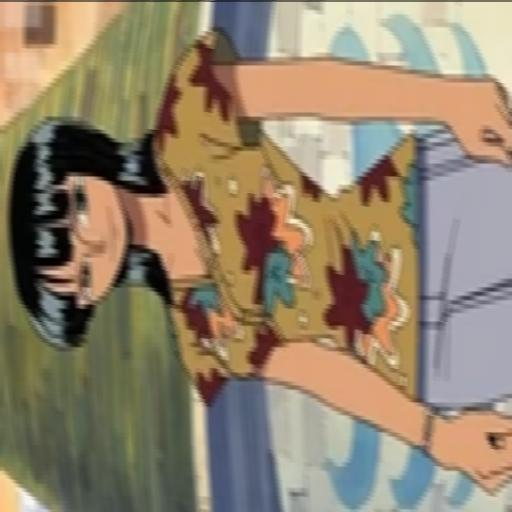NicoRobin: (3, 16, 512, 502)
